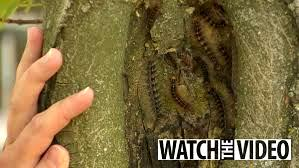Caterpillar: (190, 14, 223, 72), (145, 49, 166, 123), (200, 84, 231, 129), (169, 72, 189, 113)
